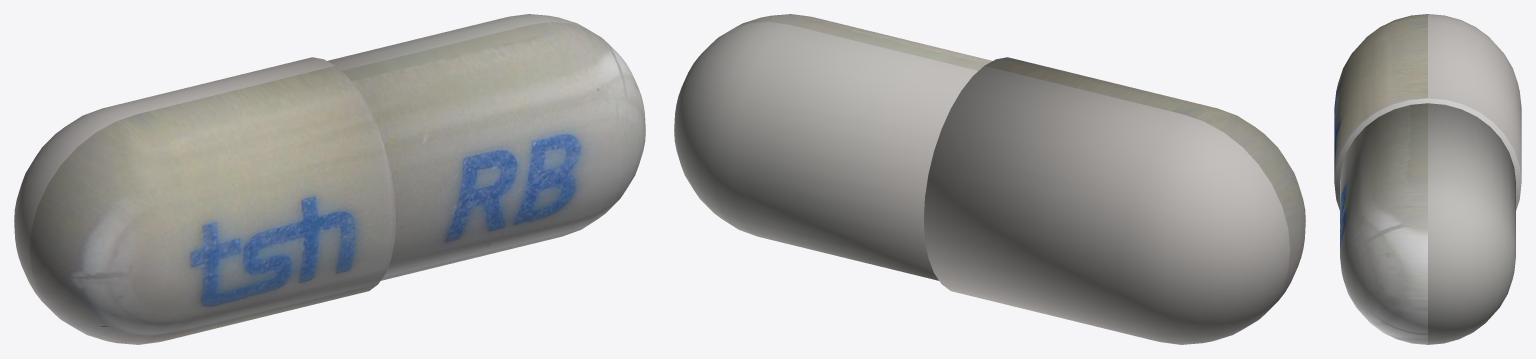
Rendered from 20180614GOPHDRGPT31099.fbx.
The picture shows the model from 3 angles, left to right: view 1: azimuth 30°, elevation 25°; view 2: azimuth 150°, elevation 25°; view 3: azimuth 270°, elevation 25°; orthographic projection. The views are drawn at different scales.
Visible parts, largest first — view 1: 球體.020; view 2: 球體.020; view 3: 球體.020.
Boxes of the visible parts, x1,y1,x2,y2 form: 球體.020: (14,14,645,344); 球體.020: (674,14,1305,344); 球體.020: (1334,14,1521,344).
Size of the model in its own units: 3.49 by 1.22 by 1.22.
